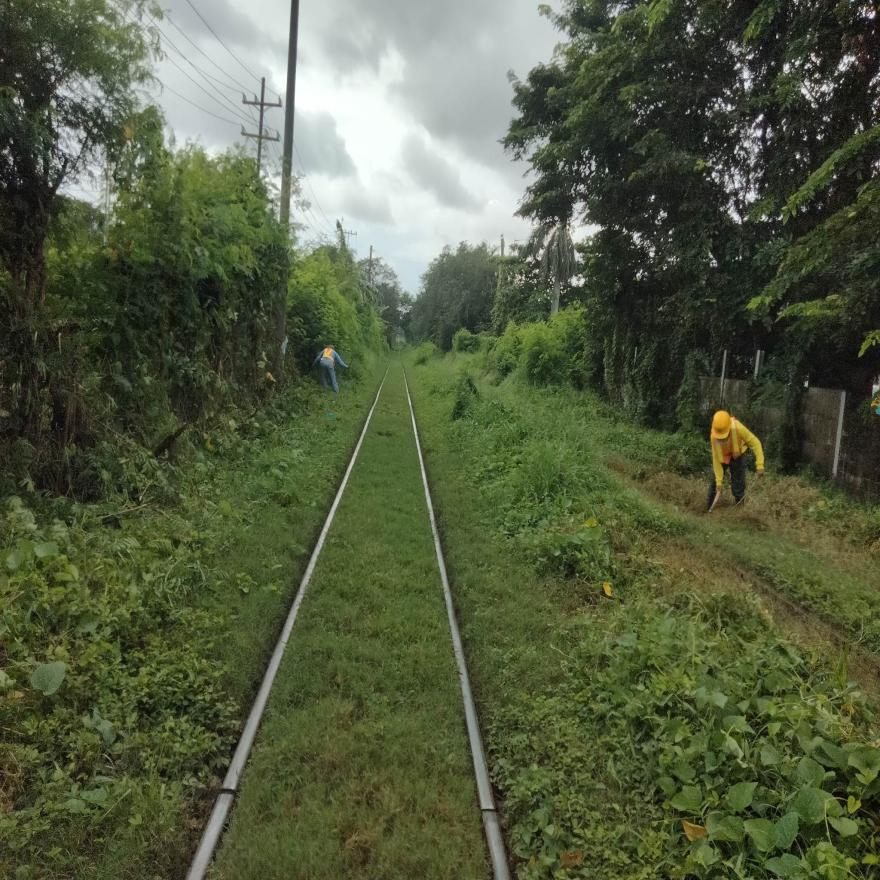railway-gap: (204, 761, 250, 825), (476, 797, 522, 856)
